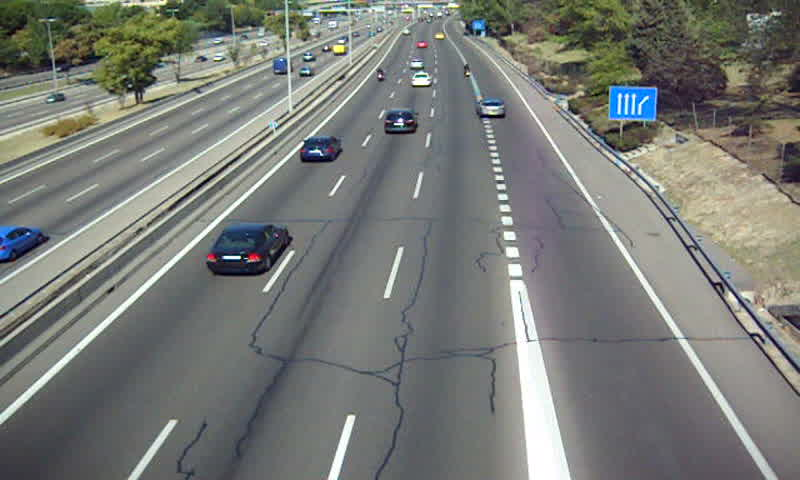car: (207, 224, 289, 277), (298, 136, 340, 162), (384, 107, 419, 136), (475, 100, 507, 120), (411, 71, 431, 88)
motorcycle: (462, 64, 474, 80), (376, 65, 385, 83)
